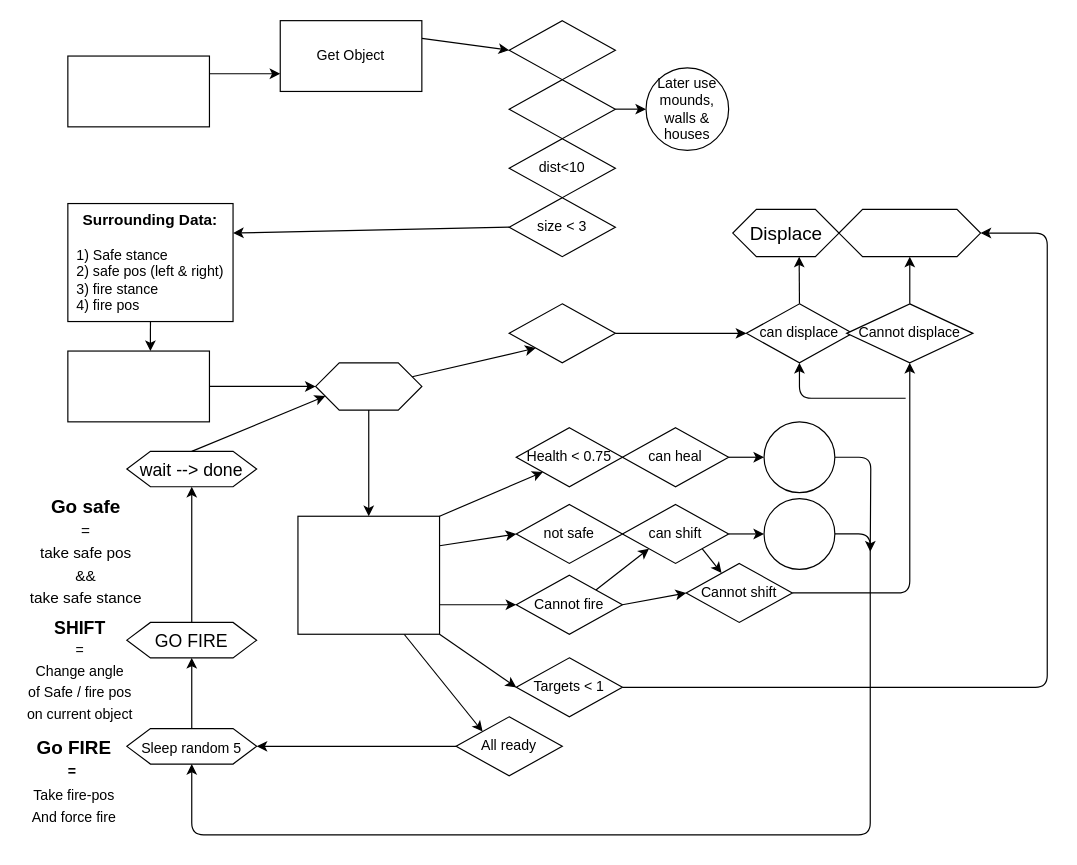
Image size: 1077x865. Some labels were removed from this diagram. Each missing label, with the centre of its shape:
"End Hunker down" goes at [909,232].
"Get data: 1) Available targets 2) safePos is safe 3) fire pos can fire 4) Health" goes at [368,574].
"go safe" goes at [368,386].
"Heal" goes at [799,457].
"Hit when safe" goes at [561,333].
"Init FSM" goes at [138,386].
"Init Hunker down" goes at [138,91].
"Shift" goes at [799,533].
"squareIsh" goes at [561,108].
"z>0.4" goes at [561,49].
